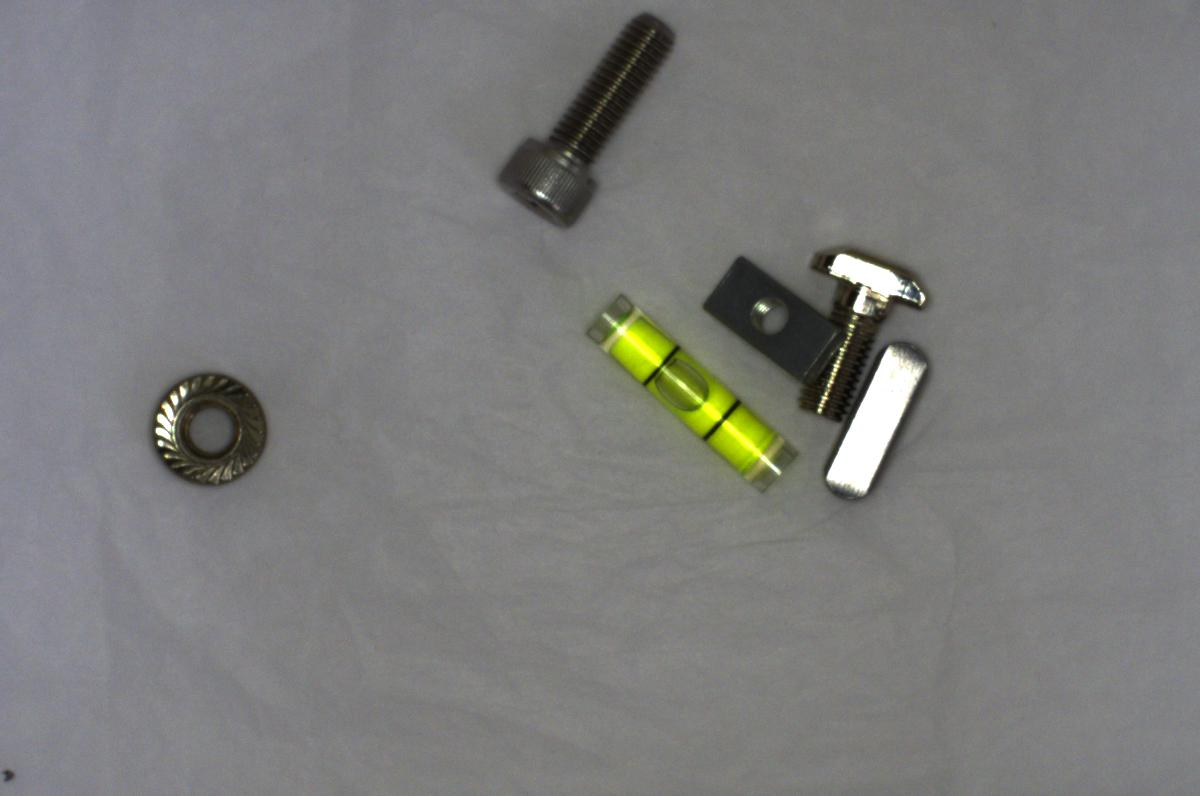Flange nut: (148, 368, 280, 490)
Hexagon screw: (479, 6, 687, 221)
Horizontal bubble: (587, 294, 798, 498)
Keybar: (811, 332, 935, 512)
Rectangular nut: (706, 258, 842, 382)
T-shaped screw: (791, 244, 942, 422)
